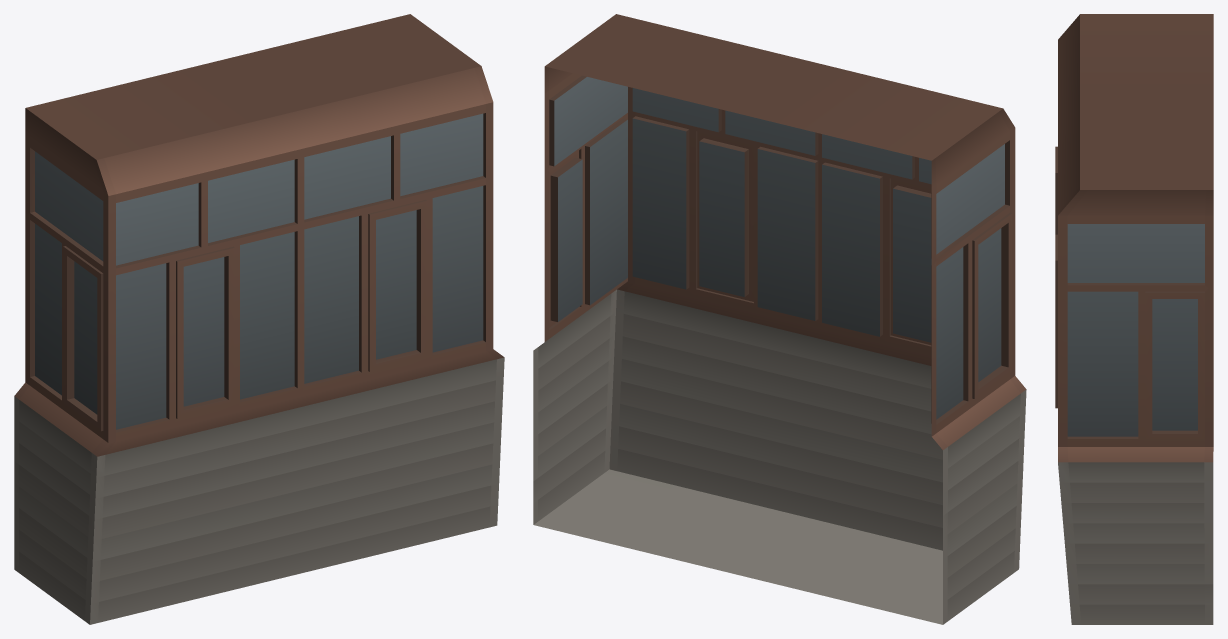
File: The balcony is closed 4.fbx
3 renders of one model, left to right at view 1: azimuth 30°, elevation 25°; view 2: azimuth 150°, elevation 25°; view 3: azimuth 270°, elevation 25°, orthographic. The views are drawn at different scales.
Parts seen in each view (by area): view 1: Cube.084; view 2: Cube.084; view 3: Cube.084.
Boxes of the visible parts, bbox=[...] form: Cube.084: bbox=[14, 14, 504, 624]; Cube.084: bbox=[533, 14, 1026, 624]; Cube.084: bbox=[1055, 14, 1213, 624].
Bounding box in the file's own units: 677 × 729 × 243.
